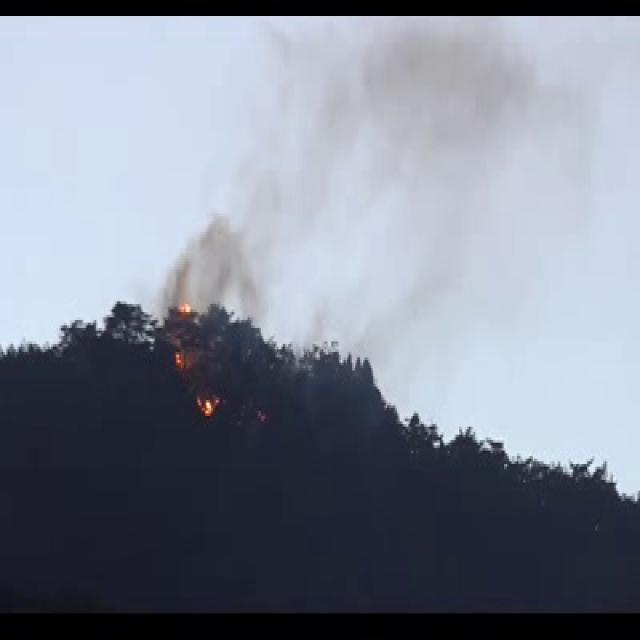smoke: (267, 36, 527, 332)
